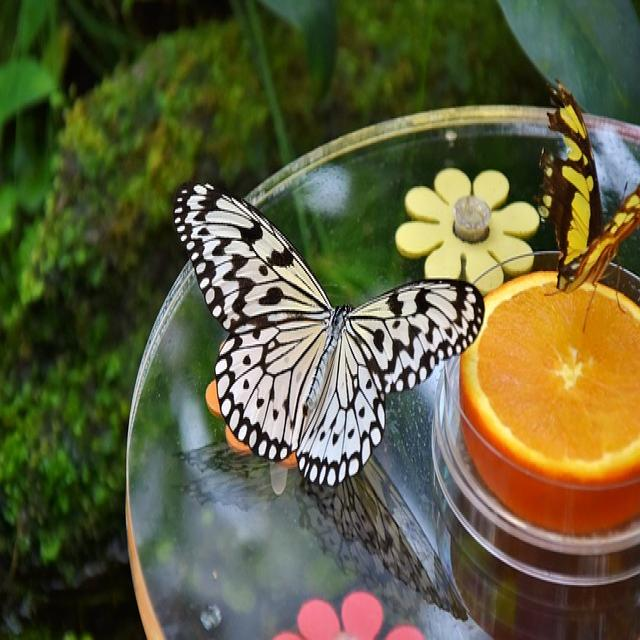butterfly: (173, 183, 486, 490), (539, 81, 640, 293)
